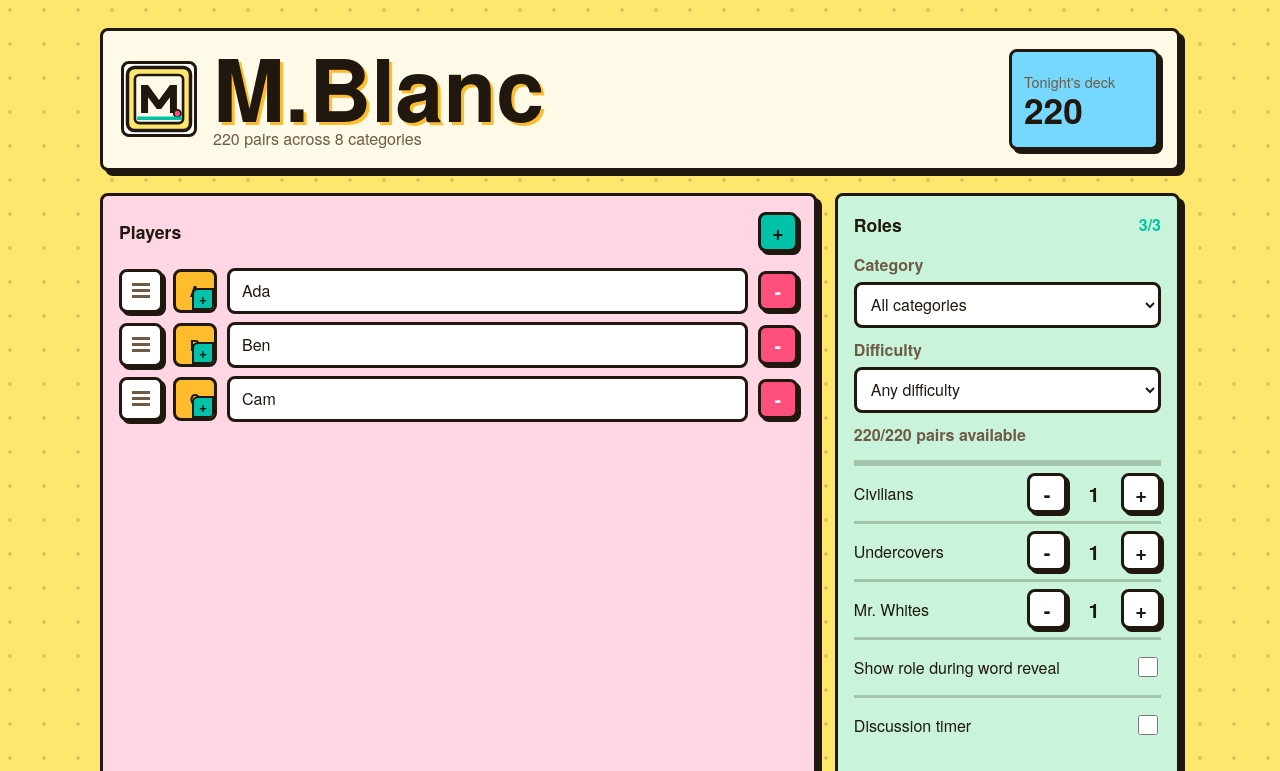
Scenario: App — setup / player management › adds a player to the roster
Check: the number of fields with placeholder "Player 1" is 3, box [227,268,748,314]; [227,322,748,368]; [227,376,748,422]
What coordinates should you click on to do the following:
click the button titled "Add player" in the row of "Players"
I would click on:
 (778, 232)
Its box is [758,212,798,252].
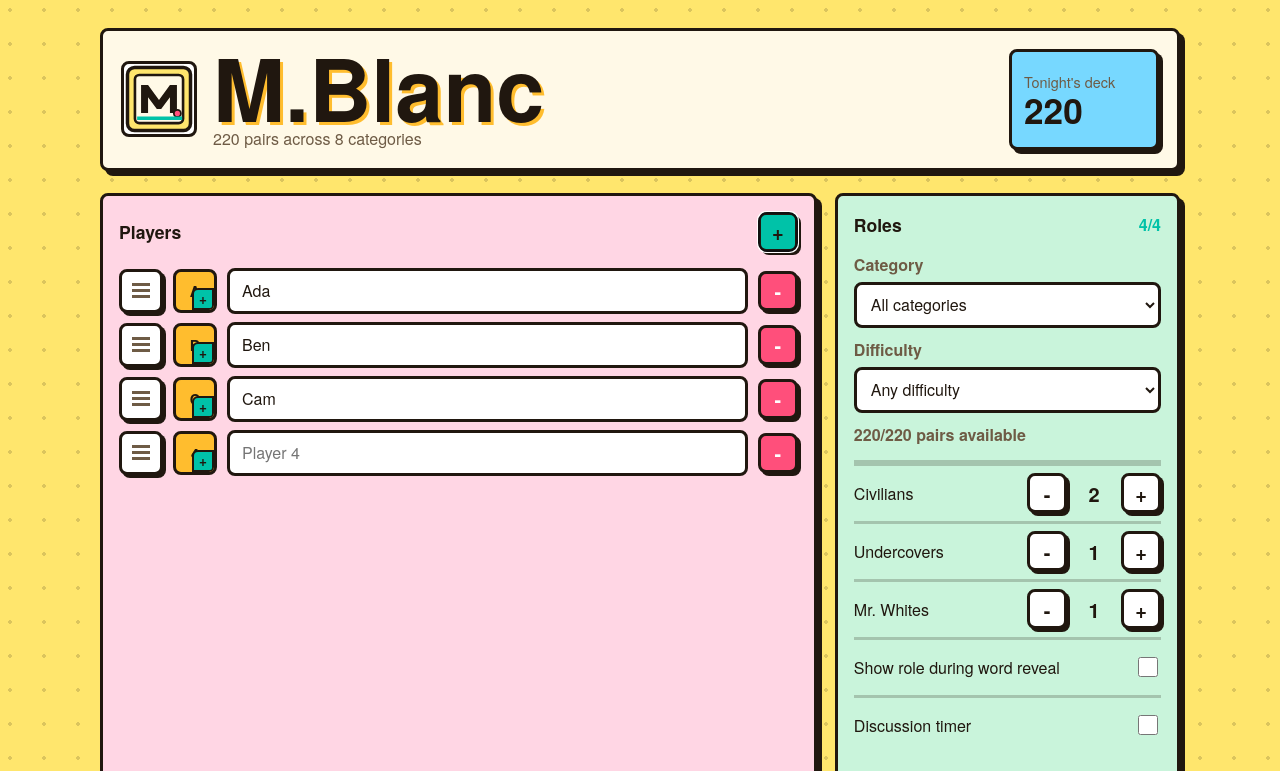
Check: the number of fields with placeholder "Player 1" is 4, box [227,268,748,314]; [227,322,748,368]; [227,376,748,422]; [227,430,748,476]
